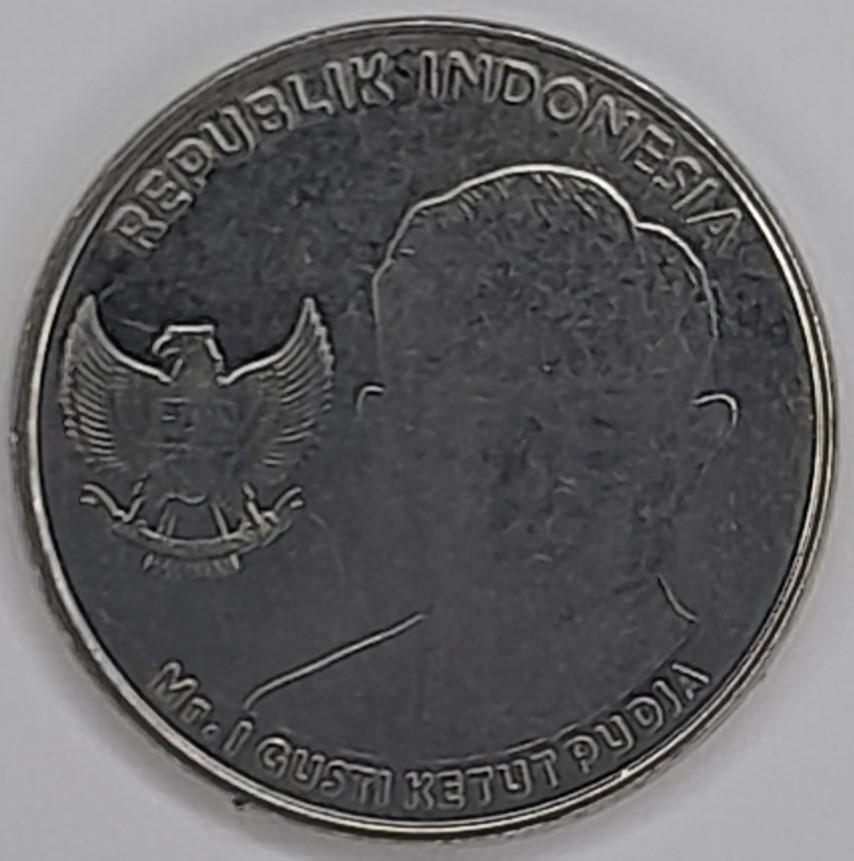coin_1000_e2016: (15, 17, 843, 861)
